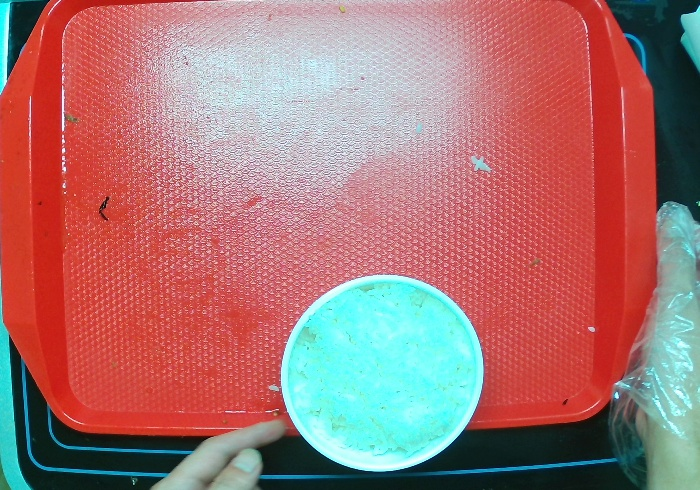YKMZ-Fan_Wan: (280, 271, 484, 475)
